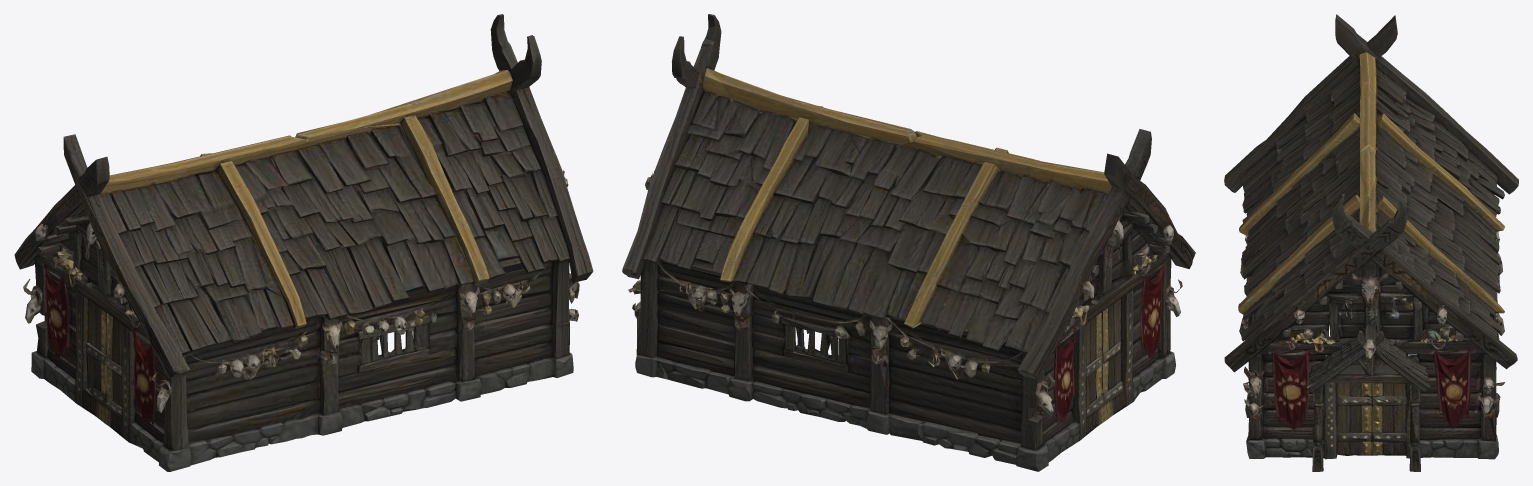
File: hall.glb
3 views of the same model, side by side, from view 1: azimuth 30°, elevation 25°; view 2: azimuth 150°, elevation 25°; view 3: azimuth 270°, elevation 25° (orthographic). The views are drawn at different scales.
Visible parts, largest first — view 1: Mesh_0; view 2: Mesh_0; view 3: Mesh_0.
Part boxes in pixels (box(x1,y1,x2,y2)): Mesh_0: box(14, 14, 593, 471); Mesh_0: box(622, 14, 1195, 471); Mesh_0: box(1224, 14, 1518, 471).
Bounding box in the file's own units: 14 × 8.46 × 8.4.
1 material, 1 textured.
